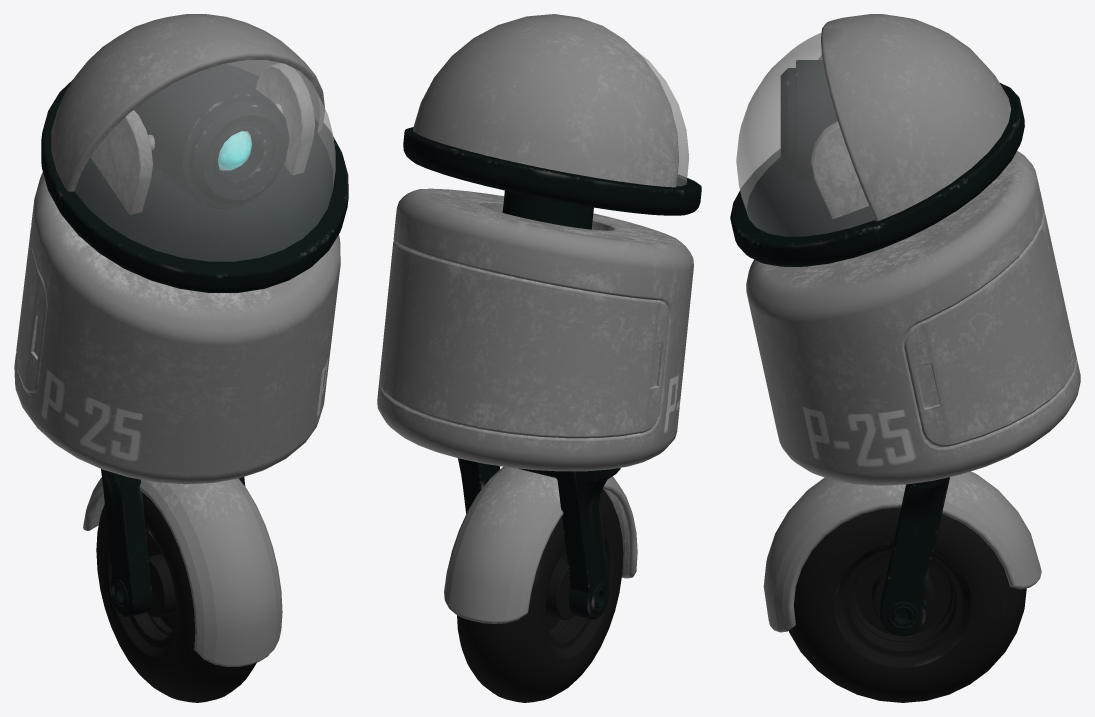
File: new_player.fbx
The picture shows the model from 3 angles, left to right: view 1: azimuth 30°, elevation 25°; view 2: azimuth 150°, elevation 25°; view 3: azimuth 270°, elevation 25°; orthographic projection. The views are drawn at different scales.
Parts seen in each view (by area): view 1: body_geo, glass_geo; view 2: body_geo, glass_geo; view 3: body_geo, glass_geo.
Boxes of the visible parts, x1=… form: body_geo: x1=14, y1=14, x2=348, y2=702; glass_geo: x1=74, y1=60, x2=335, y2=261; body_geo: x1=377, y1=14, x2=701, y2=702; glass_geo: x1=633, y1=48, x2=688, y2=186; body_geo: x1=730, y1=14, x2=1080, y2=702; glass_geo: x1=736, y1=32, x2=874, y2=236.
Size of the model in its own units: 50 by 119 by 56.53.
